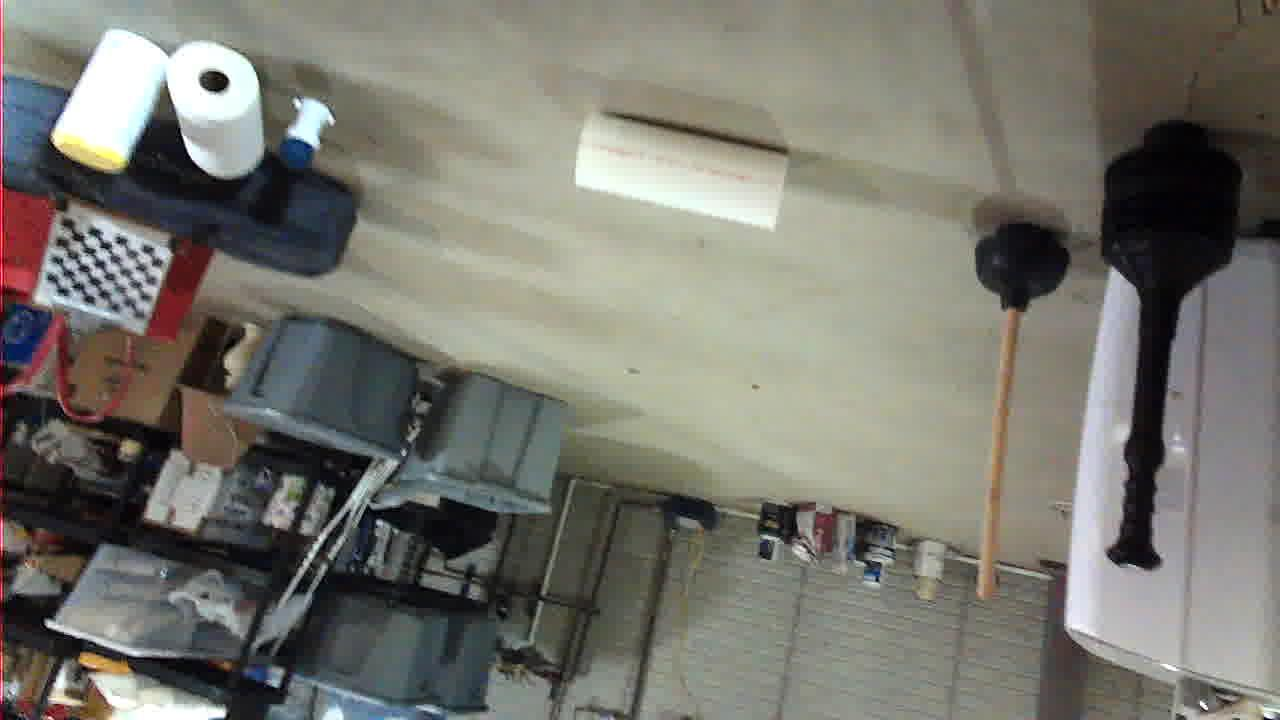coral: (492, 492, 704, 607)
